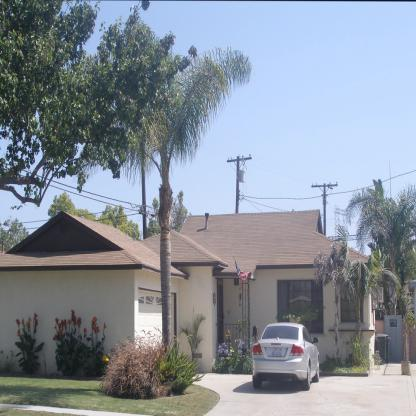Car: (250, 325, 323, 392)
